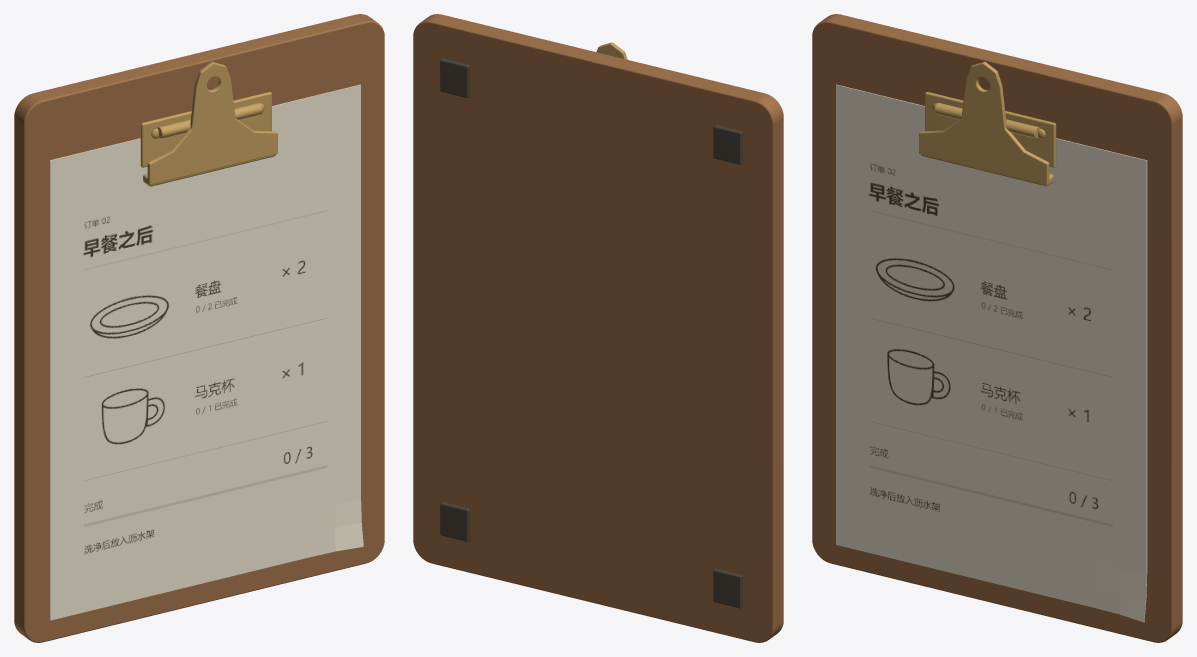
File: order-clipboard.glb
The picture shows the model from 3 angles, left to right: view 1: azimuth 30°, elevation 25°; view 2: azimuth 150°, elevation 25°; view 3: azimuth 330°, elevation 25°; orthographic projection.
Visible parts, largest first — view 1: Order_Paper, Board_Body, Clip_Jaw, Clip_Base, Clip_Hinge_Pin; view 2: Board_Body, Board_Back_Pads; view 3: Order_Paper, Board_Body, Clip_Jaw, Clip_Base, Clip_Hinge_Pin.
Boxes of the visible parts, <box> form: Order_Paper: <box>49,84,363,620</box>; Board_Body: <box>14,14,384,642</box>; Clip_Jaw: <box>147,61,277,184</box>; Clip_Base: <box>140,92,271,167</box>; Clip_Hinge_Pin: <box>157,102,262,138</box>; Board_Body: <box>413,14,783,642</box>; Board_Back_Pads: <box>440,58,742,608</box>; Order_Paper: <box>836,84,1147,622</box>; Board_Body: <box>812,14,1182,642</box>; Clip_Jaw: <box>919,61,1049,184</box>; Clip_Base: <box>925,92,1056,167</box>; Clip_Hinge_Pin: <box>934,102,1039,138</box>.
Bounding box in the file's own units: 0.23 × 0.3328 × 0.025.
Materials: 5 (1 with a texture image).
